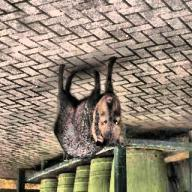boar: (53, 57, 126, 159)
